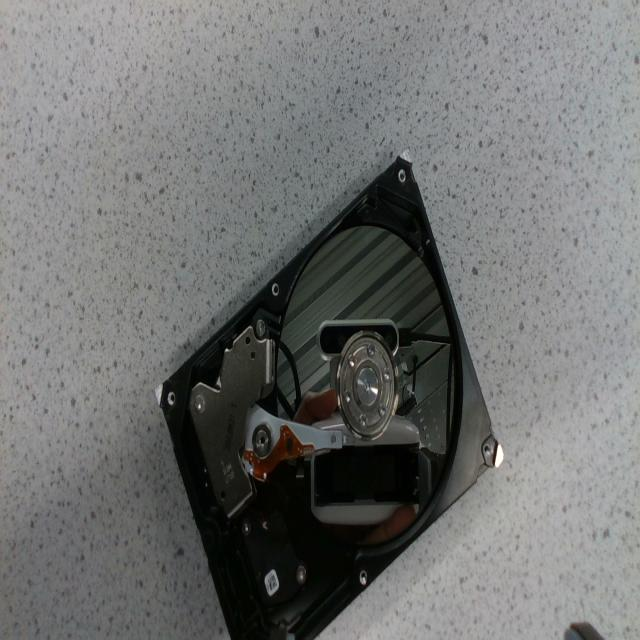actuator arm: (242, 405, 346, 478)
actuator axis: (254, 426, 271, 457)
case: (155, 152, 502, 639)
magnet: (190, 328, 274, 516)
pcb connector: (242, 506, 306, 605)
platter: (278, 227, 454, 542)
platter holder: (340, 338, 396, 435)
screw: (296, 564, 306, 585), (194, 396, 204, 412), (378, 403, 388, 417), (242, 519, 251, 534), (344, 390, 352, 406), (358, 414, 367, 428), (383, 365, 389, 382), (348, 356, 356, 368), (367, 344, 374, 356)
